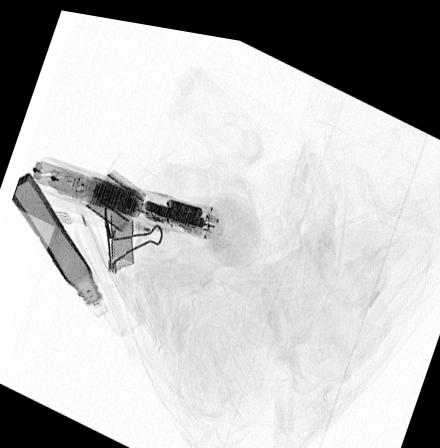Baton: (30, 152, 226, 233)
